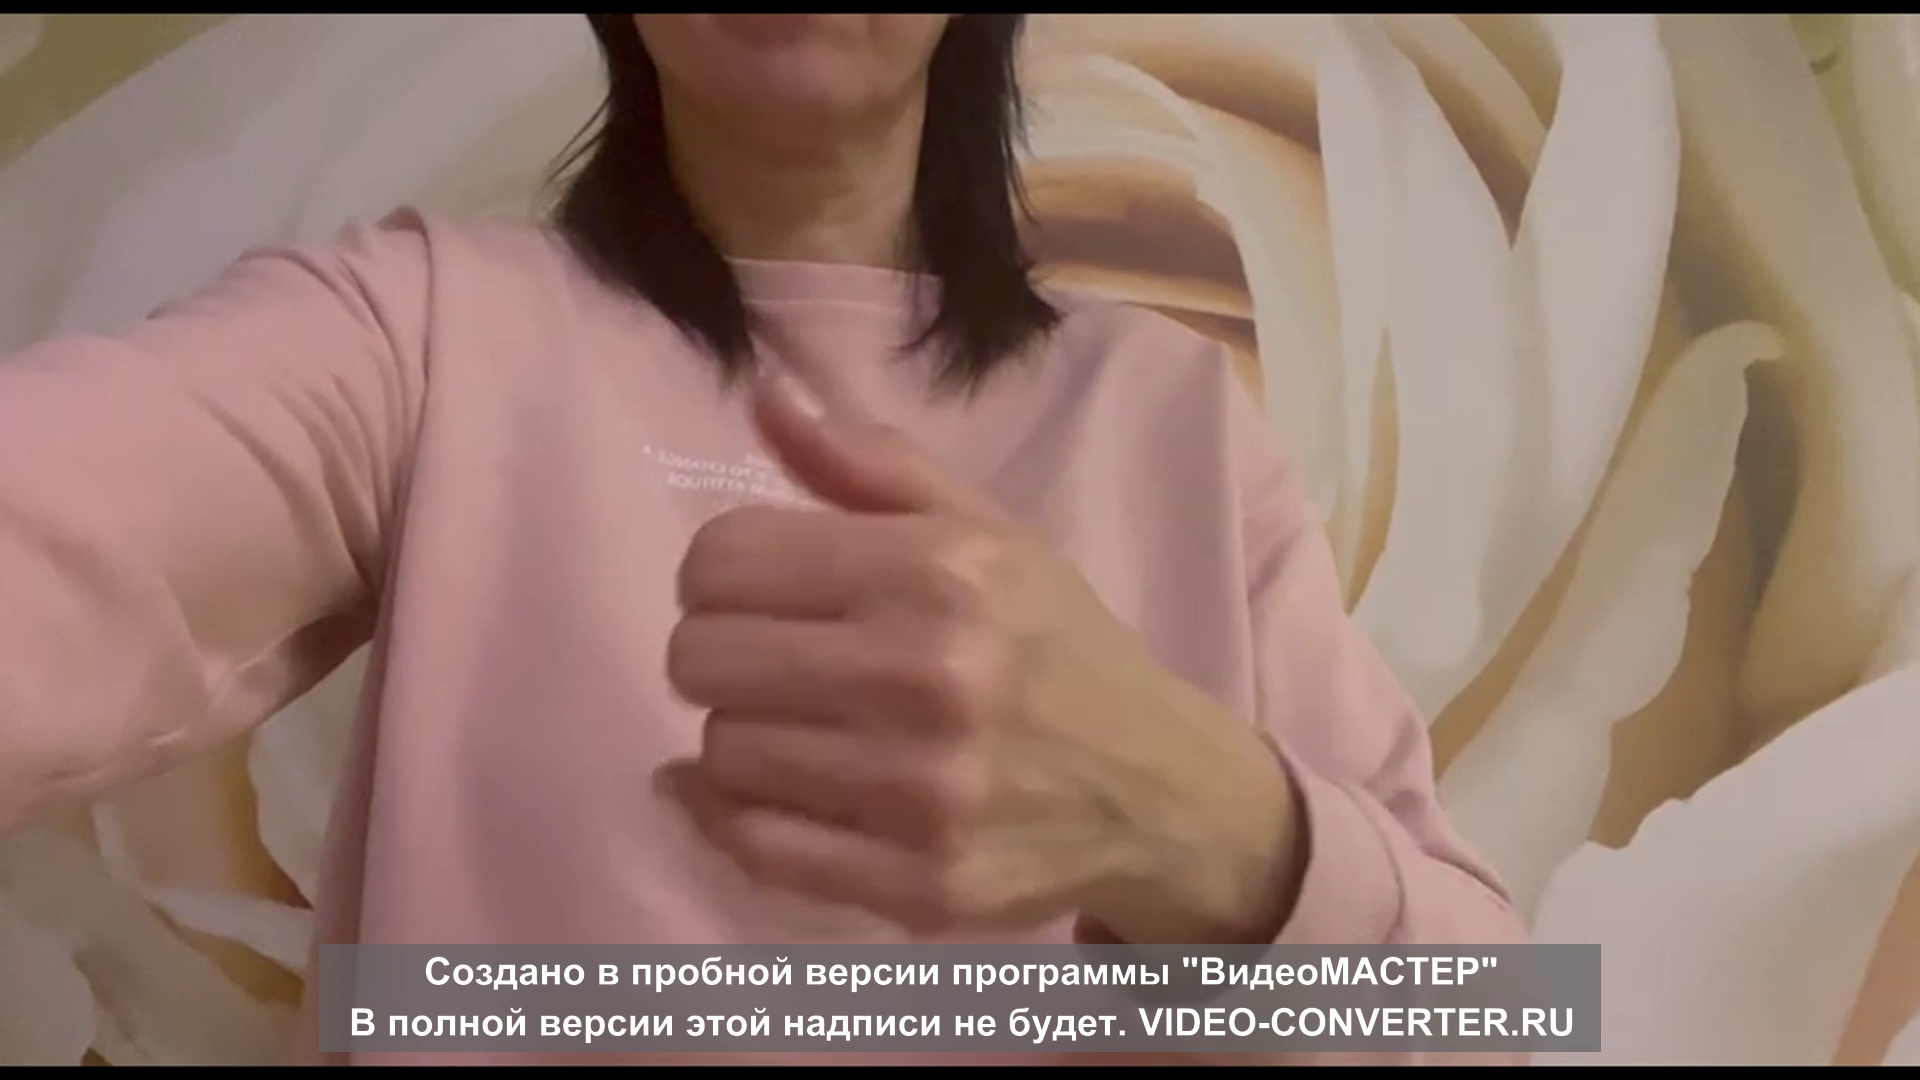Кисть: (649, 369, 1138, 936)
